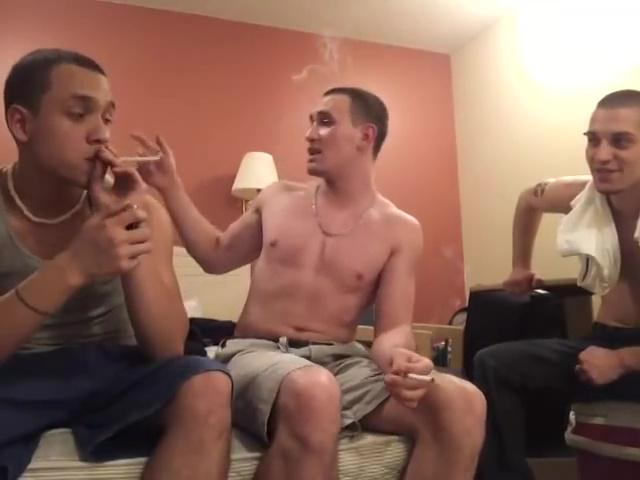cigarette: (406, 369, 436, 385), (116, 155, 160, 164)
